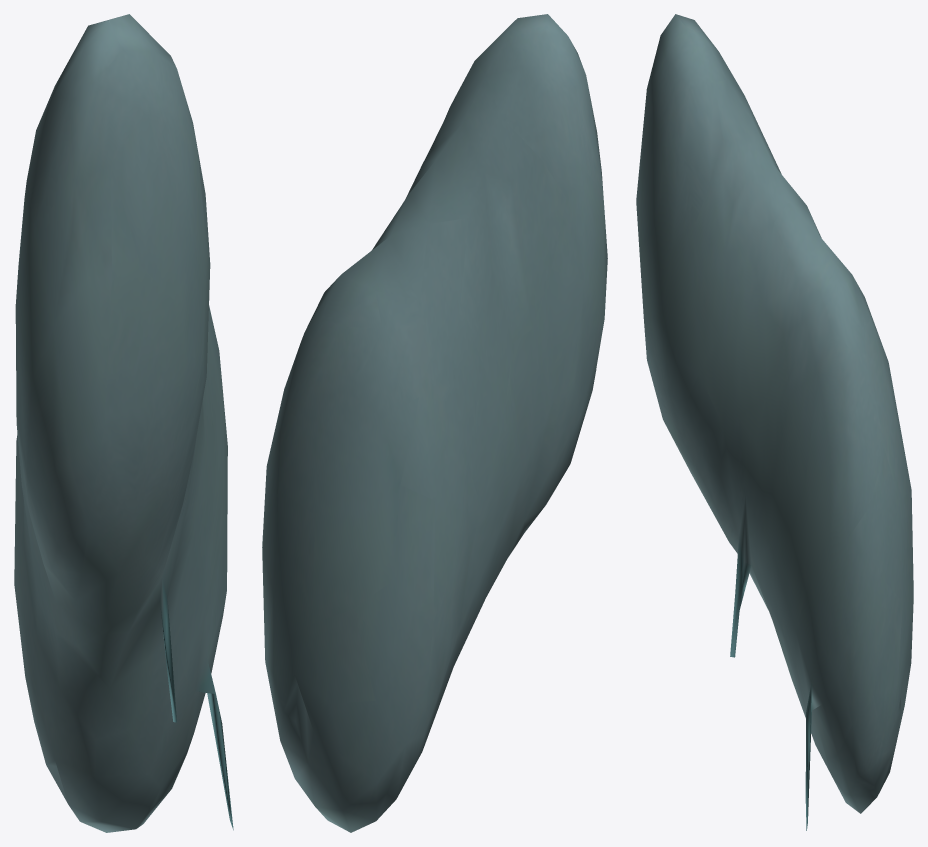
The model's file is bacillus.glb.
3 renders of one model, left to right at view 1: azimuth 30°, elevation 25°; view 2: azimuth 150°, elevation 25°; view 3: azimuth 270°, elevation 25°, orthographic. The views are drawn at different scales.
Visible parts, largest first — view 1: bacillus; view 2: bacillus; view 3: bacillus.
Part boxes in pixels (x1,y1,x2,y2): bacillus: [14, 14, 233, 832]; bacillus: [262, 14, 607, 832]; bacillus: [636, 14, 913, 830].
Bounding box in the file's own units: 0.9231 × 2.73 × 0.9238.
Materials: 1 (1 with a texture image).
